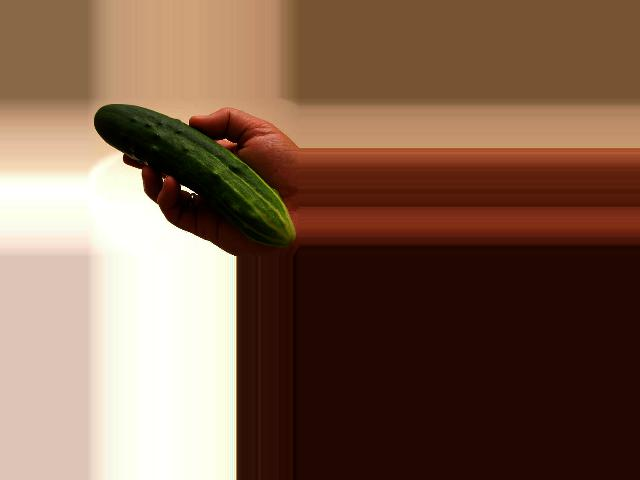cucumber: (93, 105, 294, 248)
